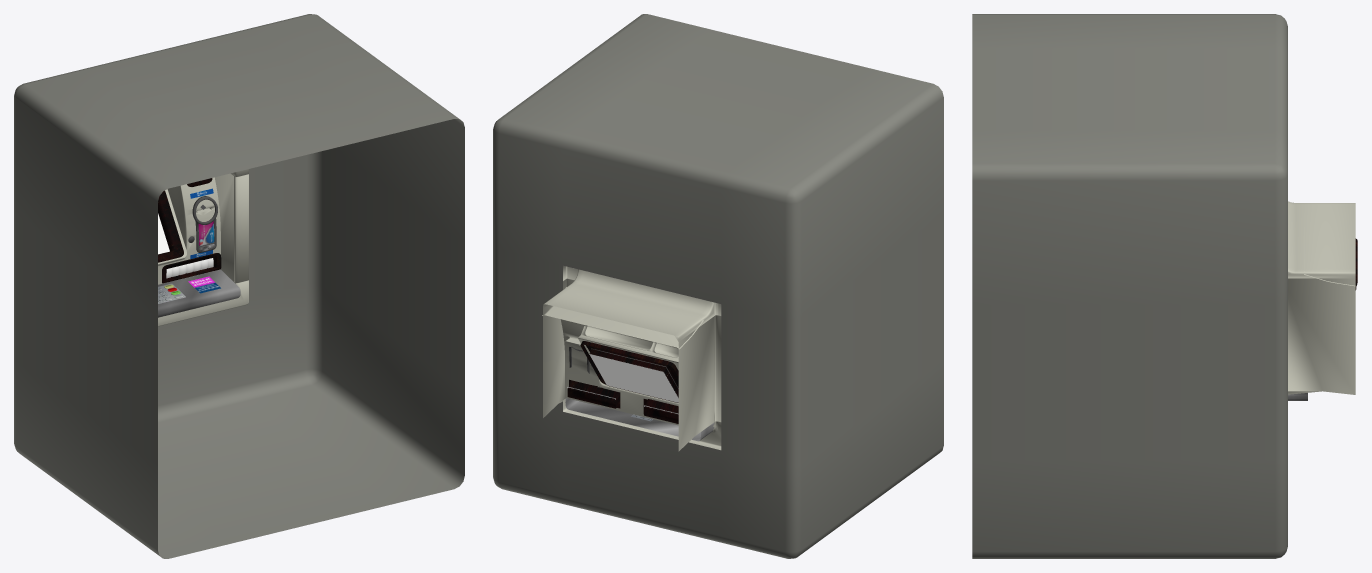
The model's file is atm.fbx.
3 views of the same model, side by side, from view 1: azimuth 30°, elevation 25°; view 2: azimuth 150°, elevation 25°; view 3: azimuth 270°, elevation 25° (orthographic). The views are drawn at different scales.
Visible parts, largest first — view 1: atm; view 2: atm; view 3: atm.
Boxes of the visible parts, x1,y1,x2,y2 form: atm: (14,14,464,558); atm: (493,14,943,558); atm: (972,14,1357,558).
Size of the model in its own units: 390 by 450 by 398.
